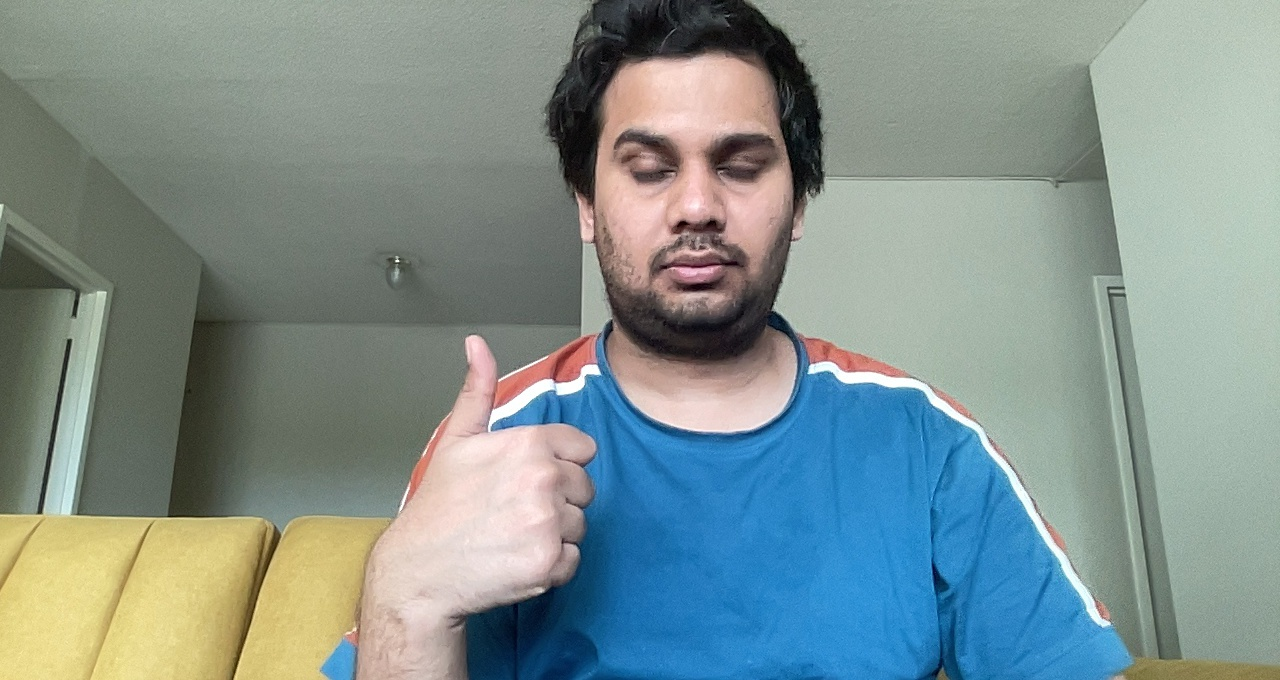thumbsup: (376, 327, 599, 616)
